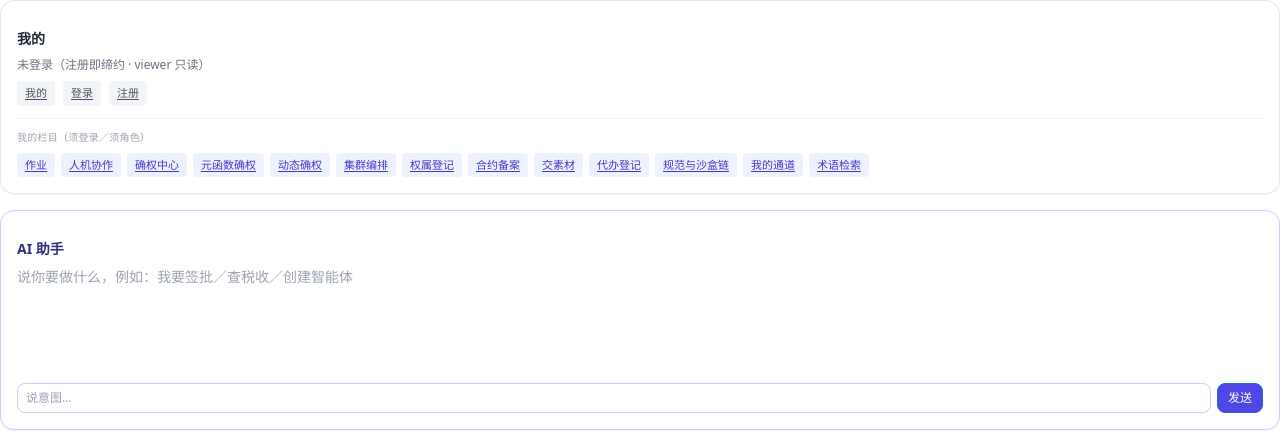
二期改版批1：三栏骨架 › 助手框失败 fail-soft：不猜测，明示不可用
Type "随便问" into the field with test id "assistant-input" at (614,398), box [17,383,1211,413]
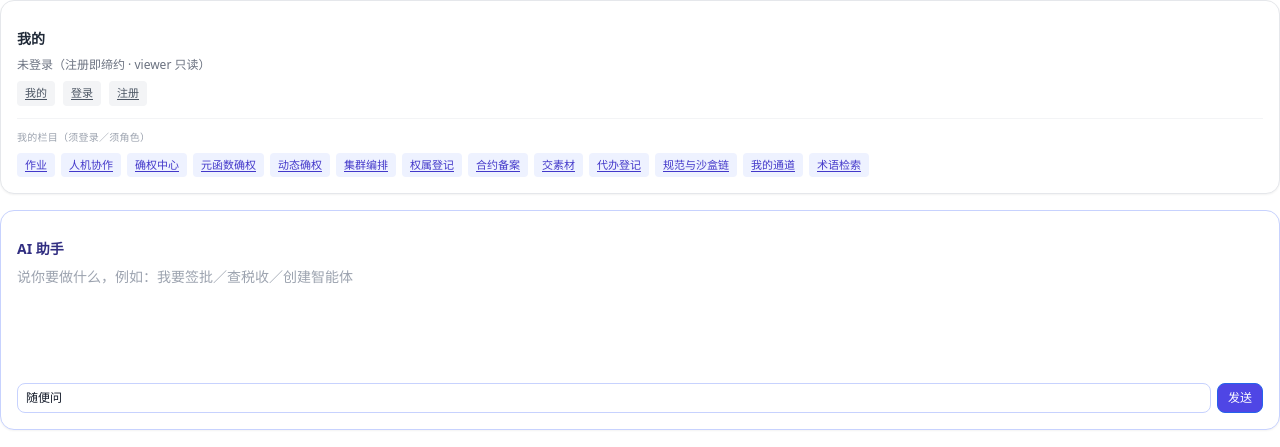
Click the button with test id "assistant-send" at (1240,398), box [1217,383,1263,413]
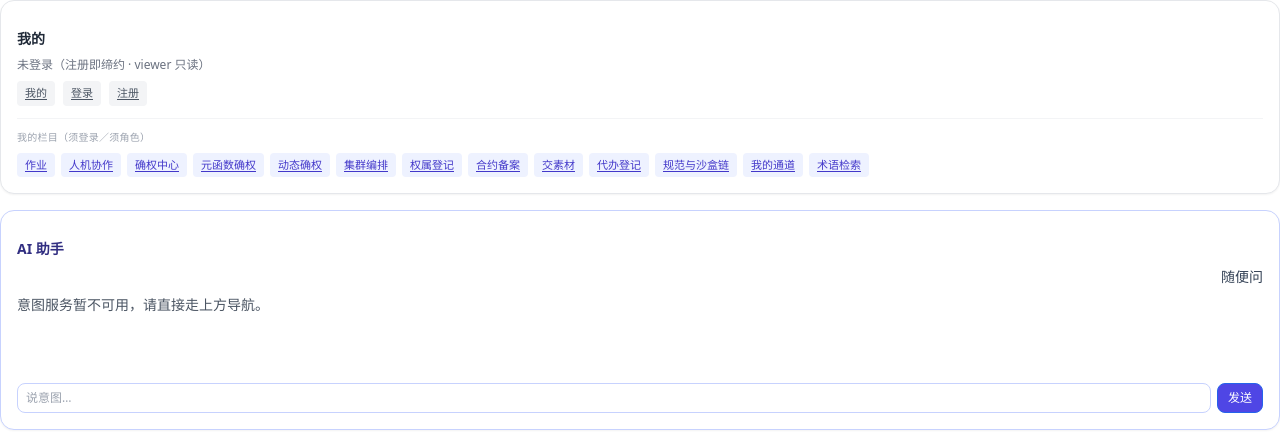
Expected: the element with test id "assistant-msgs" shows "意图服务暂不可用", [17,295,269,314]
